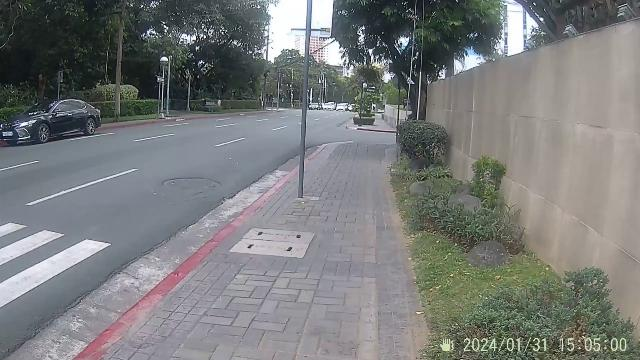car: (5, 95, 103, 145)
lamp_post: (159, 53, 171, 121)
street_sign: (278, 3, 329, 223), (356, 74, 384, 132)
utility_post: (112, 1, 128, 123)
